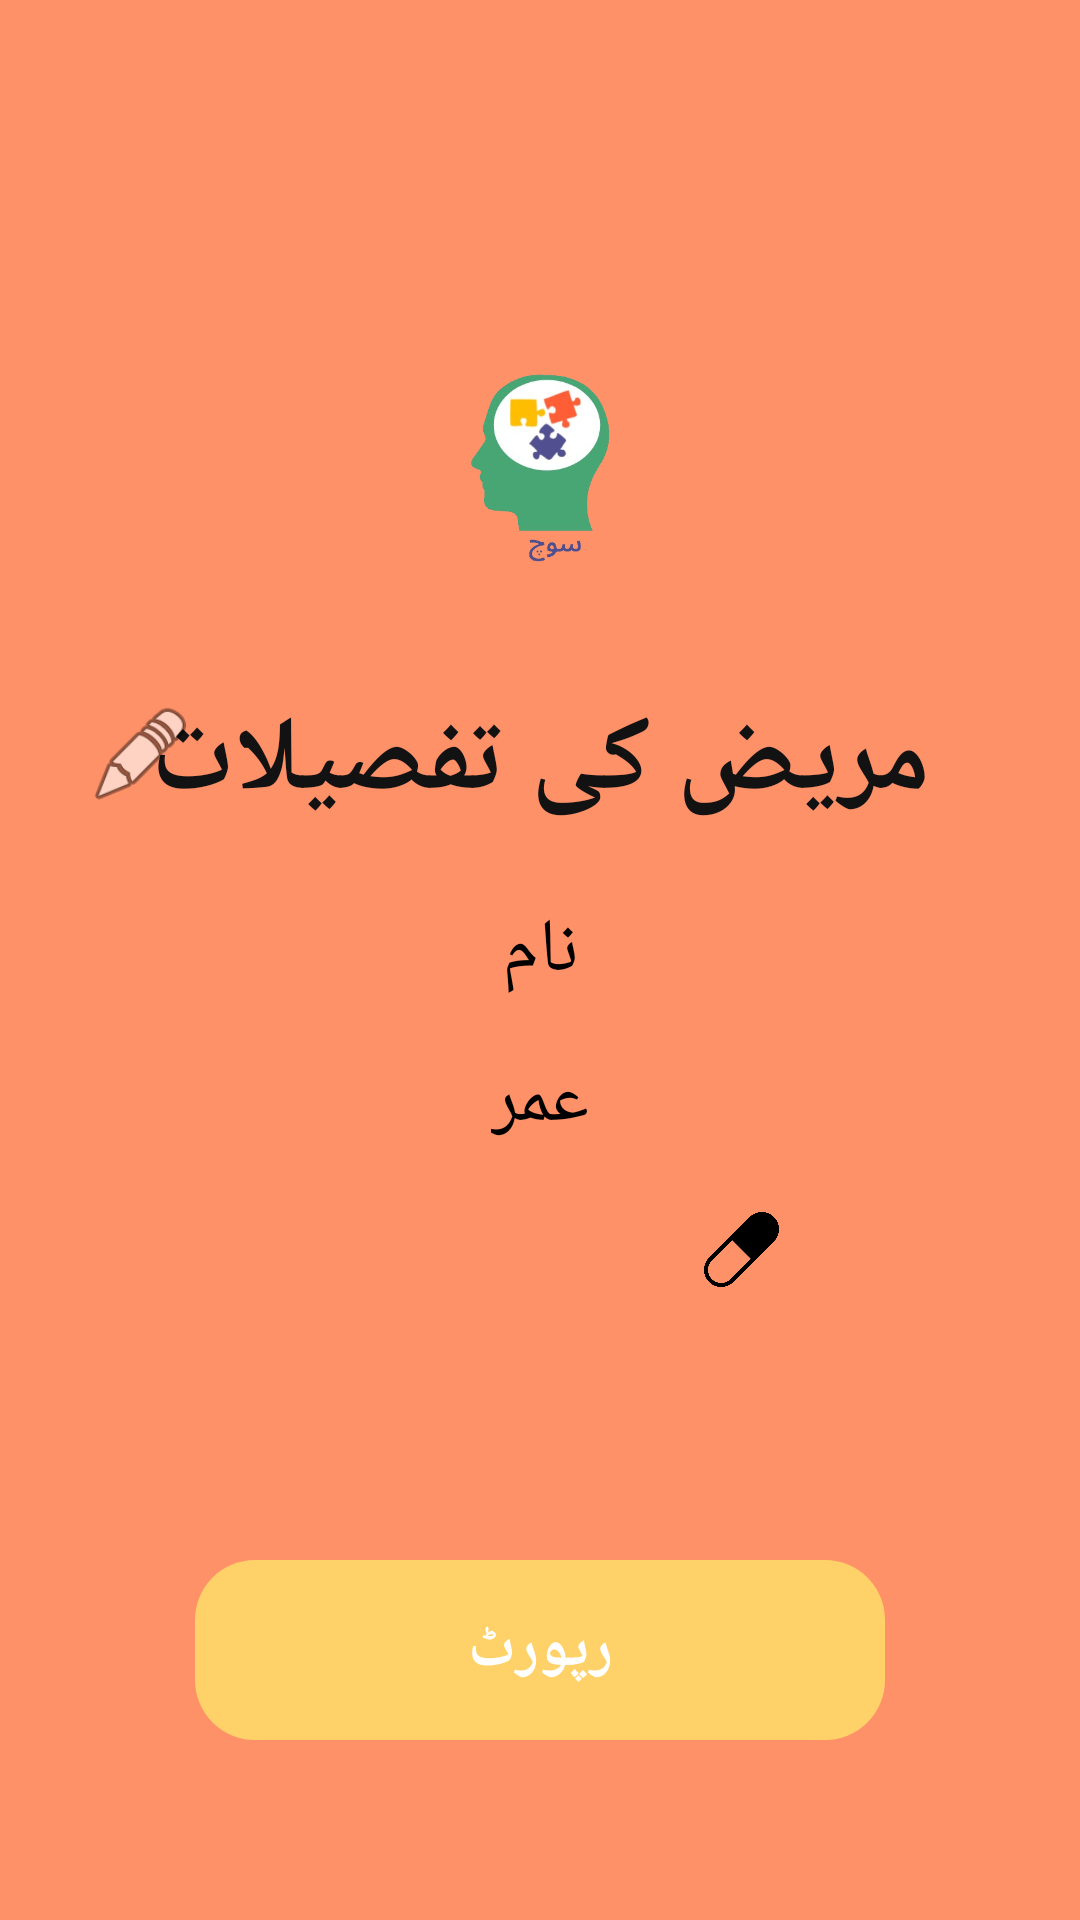

Point at icon controls on the screen. Image size 1080px x 1920px, points as (x,y).
edit: (145,754)
pill: (741,1249)
